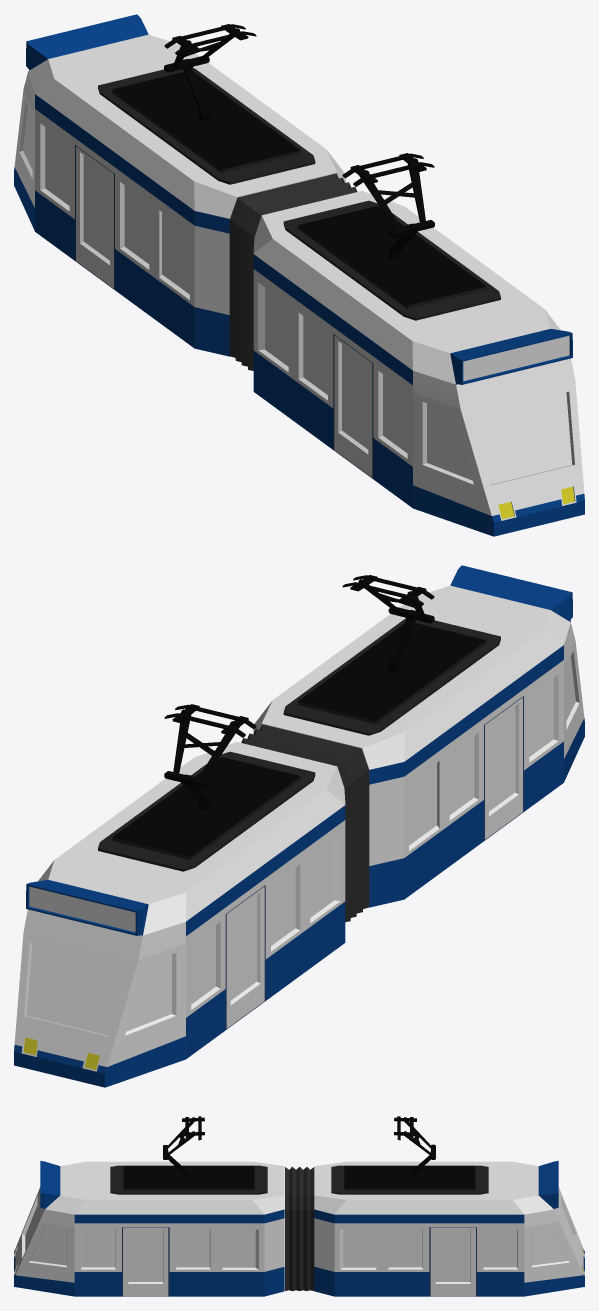
Rendered from Kereta Kaca.fbx.
3 views of the same model, one above another, from view 1: azimuth 30°, elevation 25°; view 2: azimuth 150°, elevation 25°; view 3: azimuth 270°, elevation 25° (orthographic). The views are drawn at different scales.
Parts seen in each view (by area): view 1: Cube.001, Cube.005, Cube.002, Cube.004, Cube.003; view 2: Cube.005, Cube.001, Cube.002, Cube.003, Cube.004; view 3: Cube.005, Cube.001, Cube.002, Cube.004, Cube.003.
Part boxes in pixels (x1,y1,x2,y2): Cube.001: (253, 191, 584, 536); Cube.005: (14, 14, 345, 356); Cube.002: (229, 173, 357, 370); Cube.004: (342, 153, 434, 259); Cube.003: (164, 24, 256, 120); Cube.005: (14, 742, 345, 1087); Cube.001: (253, 565, 584, 907); Cube.002: (241, 724, 369, 921); Cube.003: (164, 704, 256, 810); Cube.004: (342, 575, 434, 671); Cube.005: (314, 1160, 584, 1296); Cube.001: (14, 1160, 284, 1296); Cube.002: (285, 1166, 314, 1291); Cube.004: (163, 1116, 204, 1178); Cube.003: (394, 1116, 435, 1178).
Size of the model in its own units: 136 by 217 by 752.
